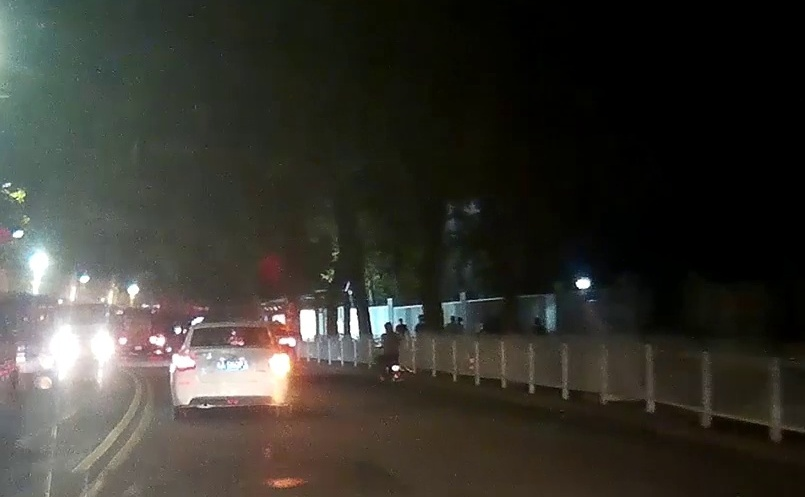L_light: (175, 357, 196, 370)
R_light: (268, 357, 286, 369)
T_light: (223, 327, 239, 331)
night-right: (170, 323, 288, 419)
